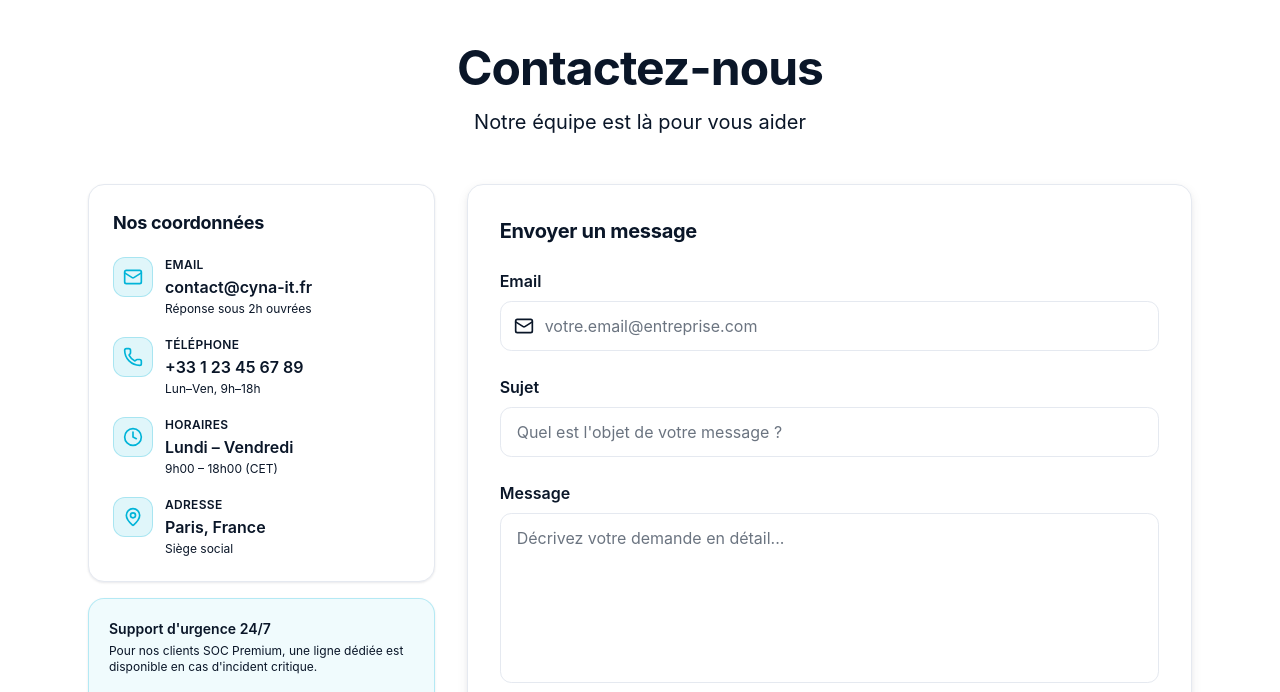
Test case: soumission réussie › affiche la confirmation après envoi
The image size is (1280, 692).
Type "contact@entreprise.fr" into the field with placeholder "votre.email@entreprise.com" at (829, 326), box [500,301,1159,351]
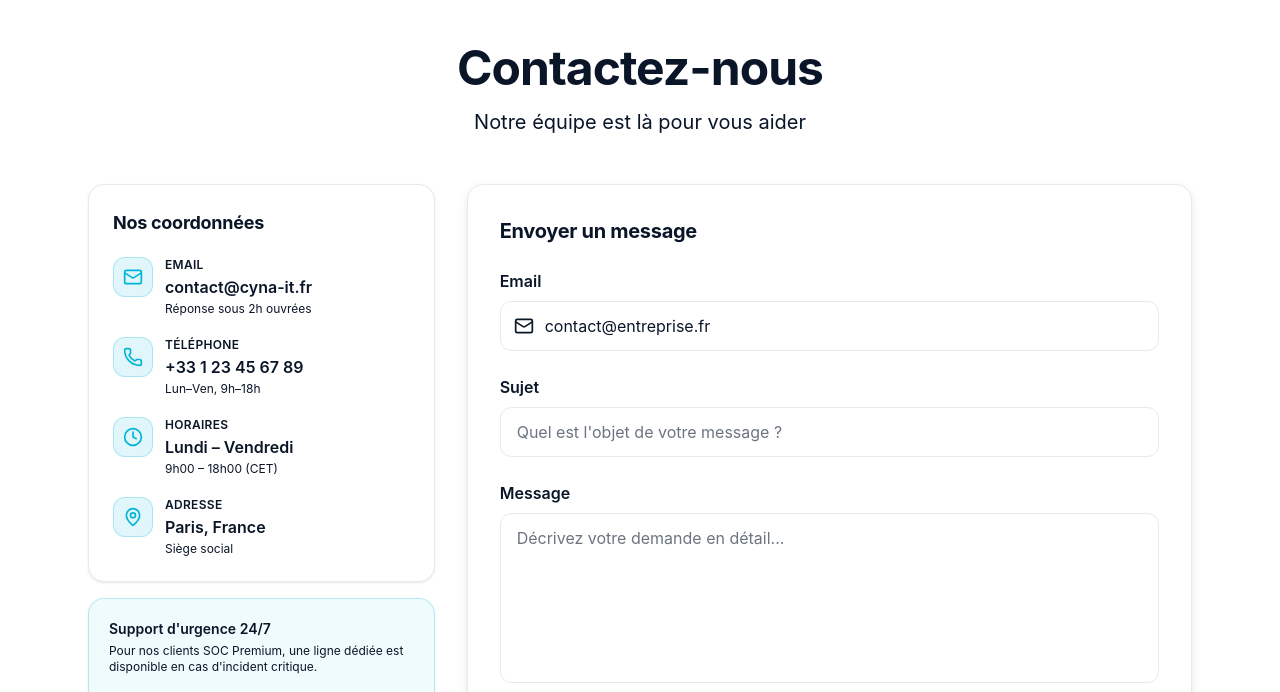
Type "Question sur SOC" into the field with placeholder "Quel est l'objet de votre message ?" at (829, 432), box [500,407,1159,457]
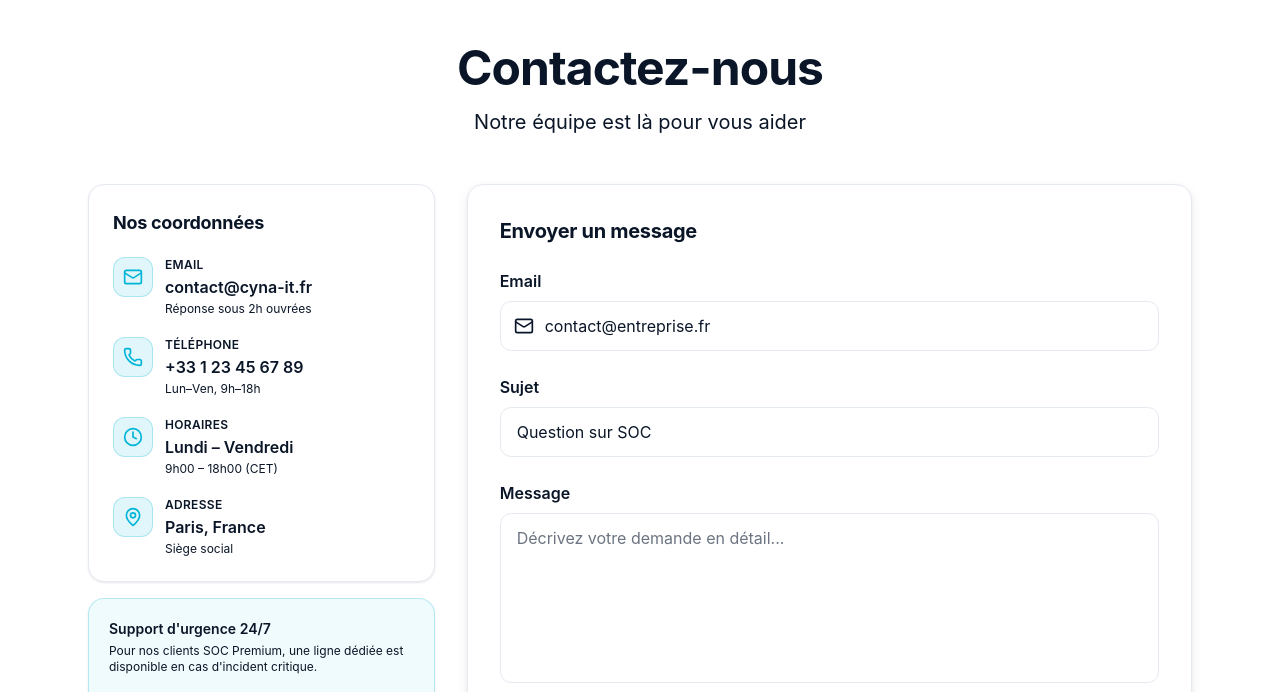
Type "Bonjour, je souhaite..." into the text box with placeholder "Décrivez votre demande en détail..." at (829, 598), box [500,513,1159,683]
(page scrolled)
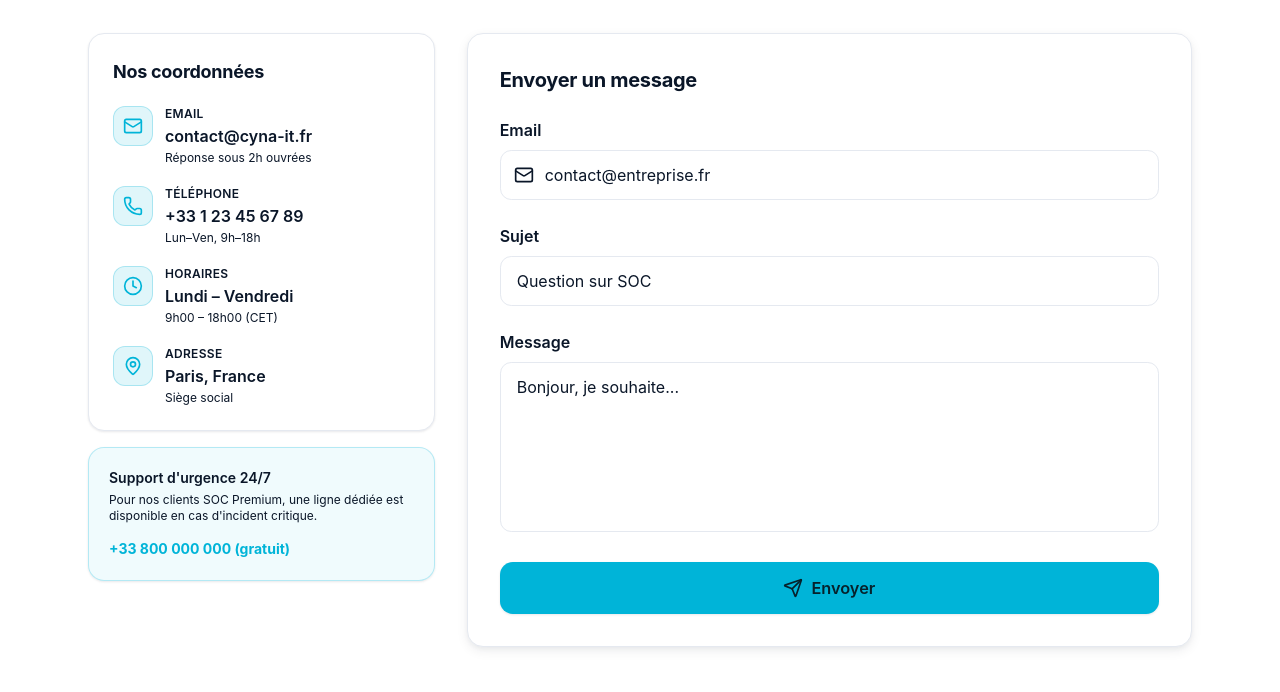
Submit the form "Envoyer un message Email Sujet Message Envoyer", box [500,66,1159,614]
(page scrolled)
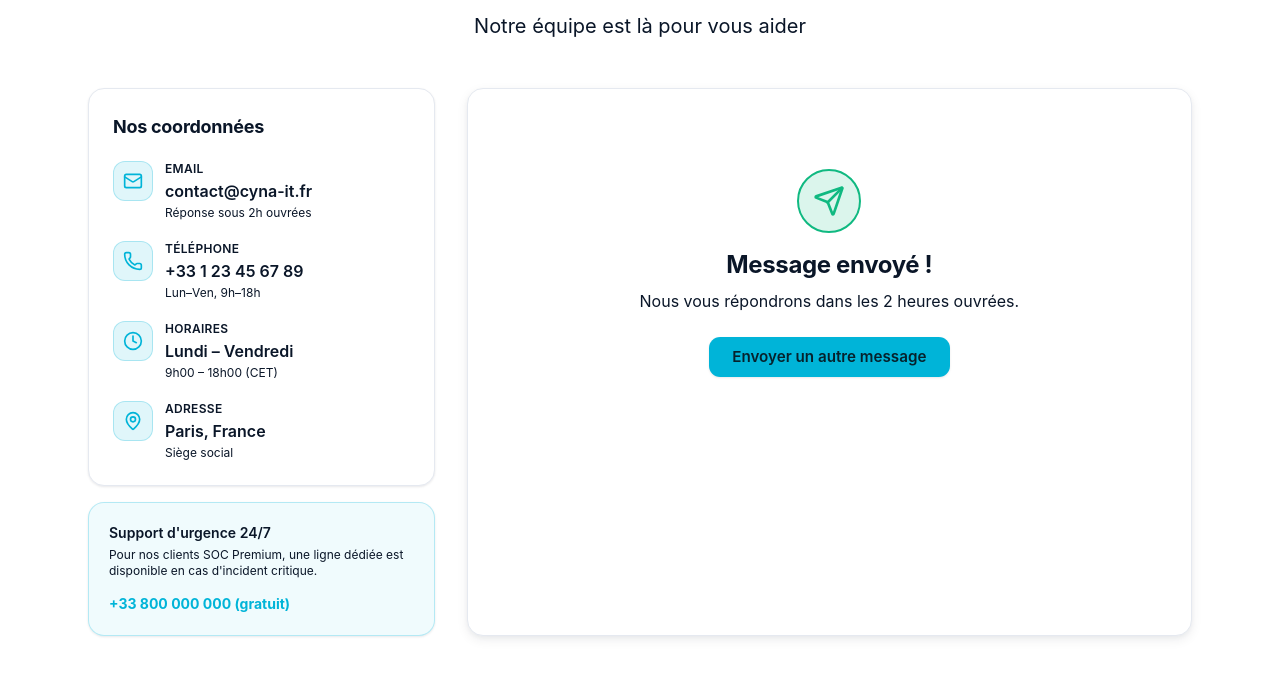
Now the heading "Message envoyé !" is shown, box [726,250,932,279]
